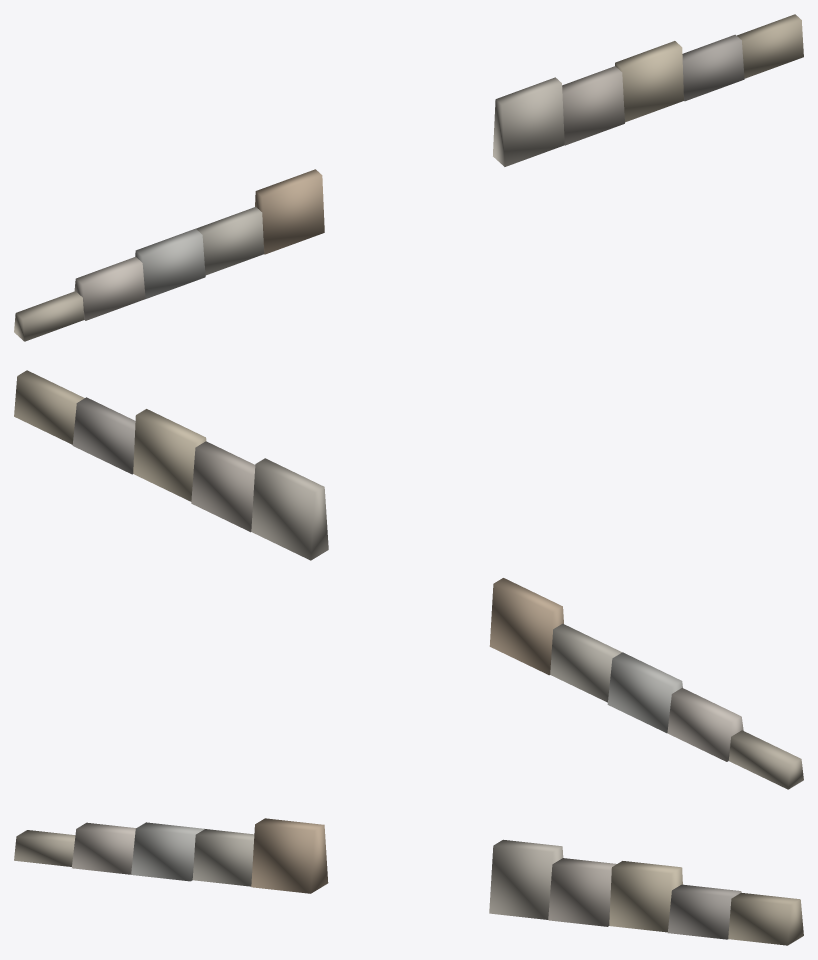
File: farm_-9_-7_collision.glb
3 views of the same model, one above another, from view 1: azimuth 30°, elevation 25°; view 2: azimuth 150°, elevation 25°; view 3: azimuth 330°, elevation 25° (orthographic). The views are drawn at different scales.
Parts seen in each view (by area): view 1: geometry_0; view 2: geometry_0; view 3: geometry_0.
Boxes of the visible parts, x1=… form: geometry_0: x1=14, y1=14, x2=803, y2=341; geometry_0: x1=14, y1=370, x2=803, y2=789; geometry_0: x1=14, y1=818, x2=803, y2=945.
Size of the model in its own units: 20.28 by 4.33 by 2.37.
